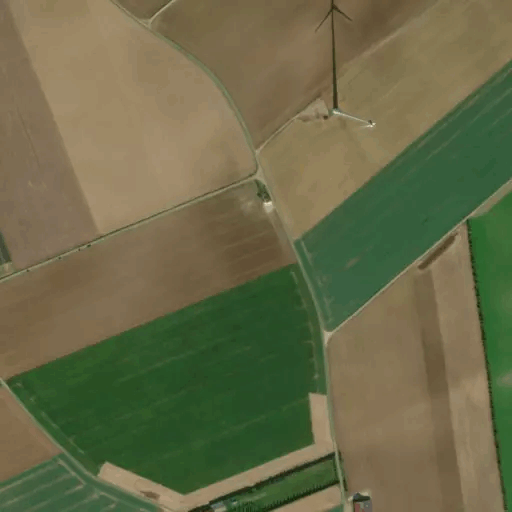wt: (310, 1, 383, 134)
